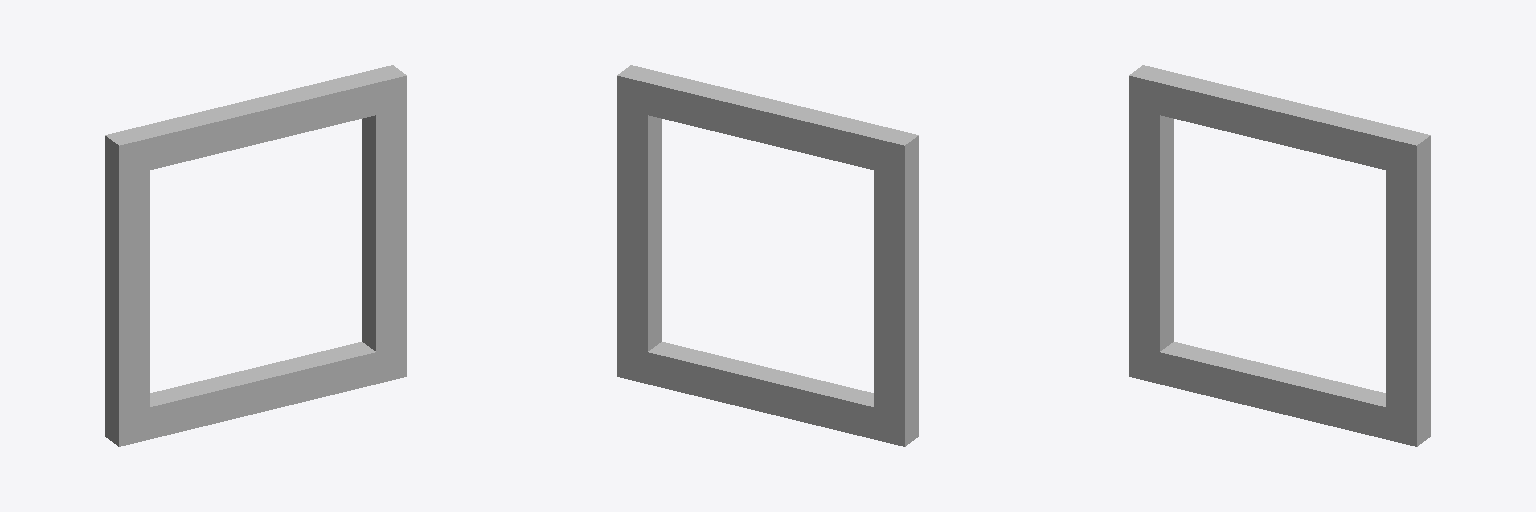
Rendered from Square Border.obj.
3 views of the same model, side by side, from view 1: azimuth 30°, elevation 25°; view 2: azimuth 150°, elevation 25°; view 3: azimuth 330°, elevation 25° (orthographic).
Parts seen in each view (by area): view 1: Cube.001_Cube.002; view 2: Cube.001_Cube.002; view 3: Cube.001_Cube.002.
Part boxes in pixels (x1,y1,x2,y2): Cube.001_Cube.002: (105, 65, 406, 446); Cube.001_Cube.002: (617, 65, 918, 446); Cube.001_Cube.002: (1129, 65, 1430, 446).
Bounding box in the file's own units: 2 × 2 × 0.1729.